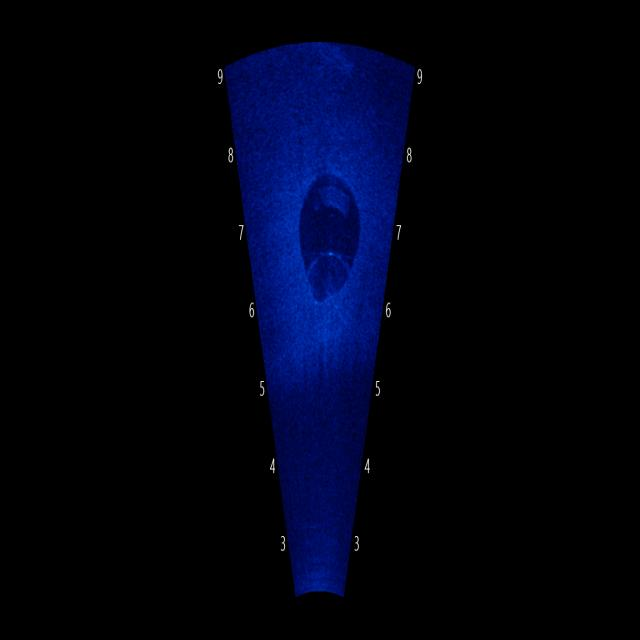circle: (296, 167, 367, 313)
